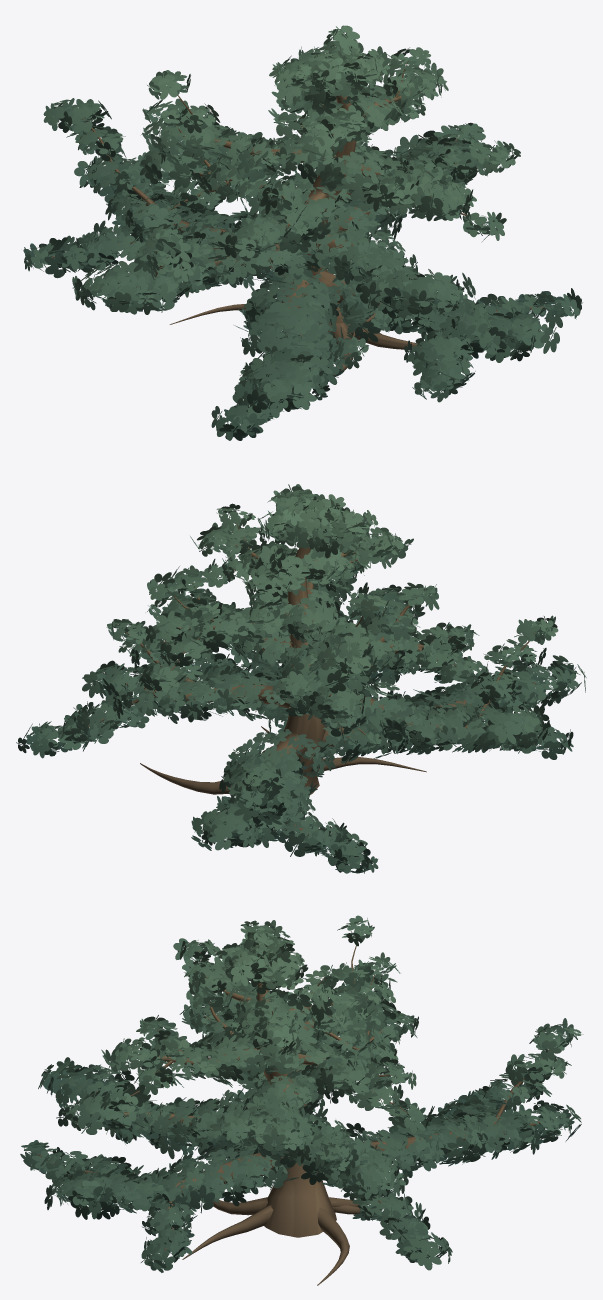
The model's file is tree.gltf.
The picture shows the model from 3 angles, top to bottom: view 1: azimuth 30°, elevation 25°; view 2: azimuth 150°, elevation 25°; view 3: azimuth 270°, elevation 25°; orthographic projection. The views are drawn at different scales.
Parts seen in each view (by area): view 1: Tree_LOD0; view 2: Tree_LOD0; view 3: Tree_LOD0.
Part boxes in pixels (left/top/right/bottom): Tree_LOD0: left=23, top=25, right=582, bottom=440; Tree_LOD0: left=16, top=484, right=586, bottom=873; Tree_LOD0: left=20, top=915, right=583, bottom=1285.
Size of the model in its own units: 12.17 by 7.6 by 13.6.
2 materials, 2 textured.
